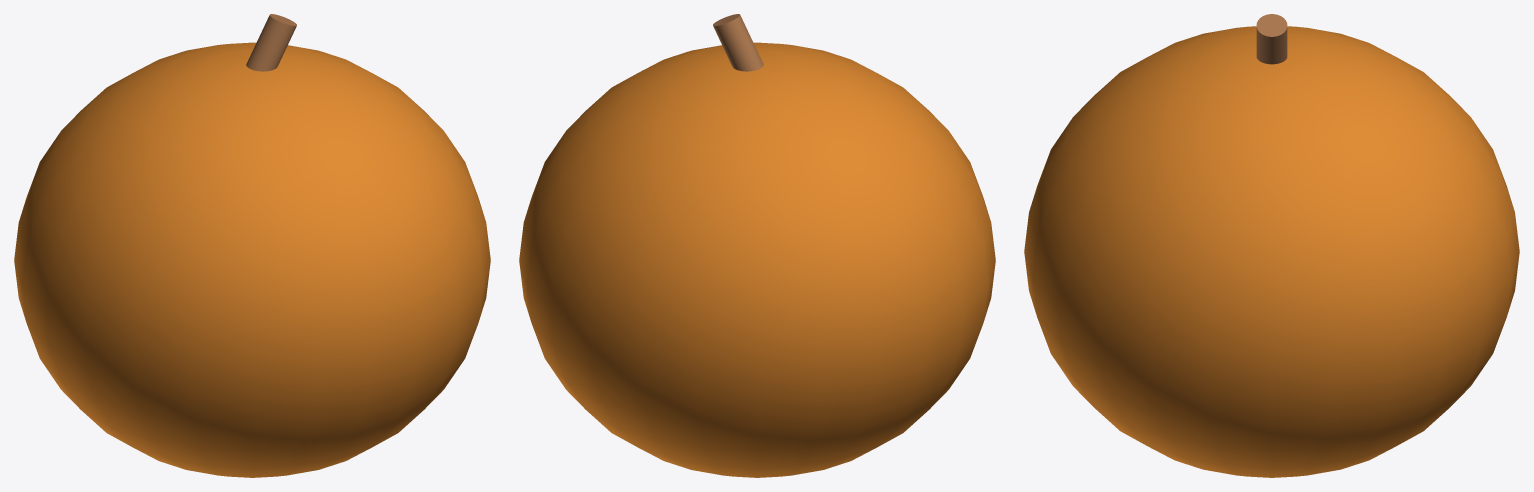
Rendered from wp-orange.glb.
3 renders of one model, left to right at view 1: azimuth 30°, elevation 25°; view 2: azimuth 150°, elevation 25°; view 3: azimuth 270°, elevation 25°, orthographic. The views are drawn at different scales.
Parts seen in each view (by area): view 1: wp-orange; view 2: wp-orange; view 3: wp-orange.
Boxes of the visible parts, x1,y1,x2,y2 form: wp-orange: [14, 14, 490, 477]; wp-orange: [519, 14, 995, 477]; wp-orange: [1024, 14, 1519, 477].
Size of the model in its own units: 0.09 by 0.09 by 0.09.
